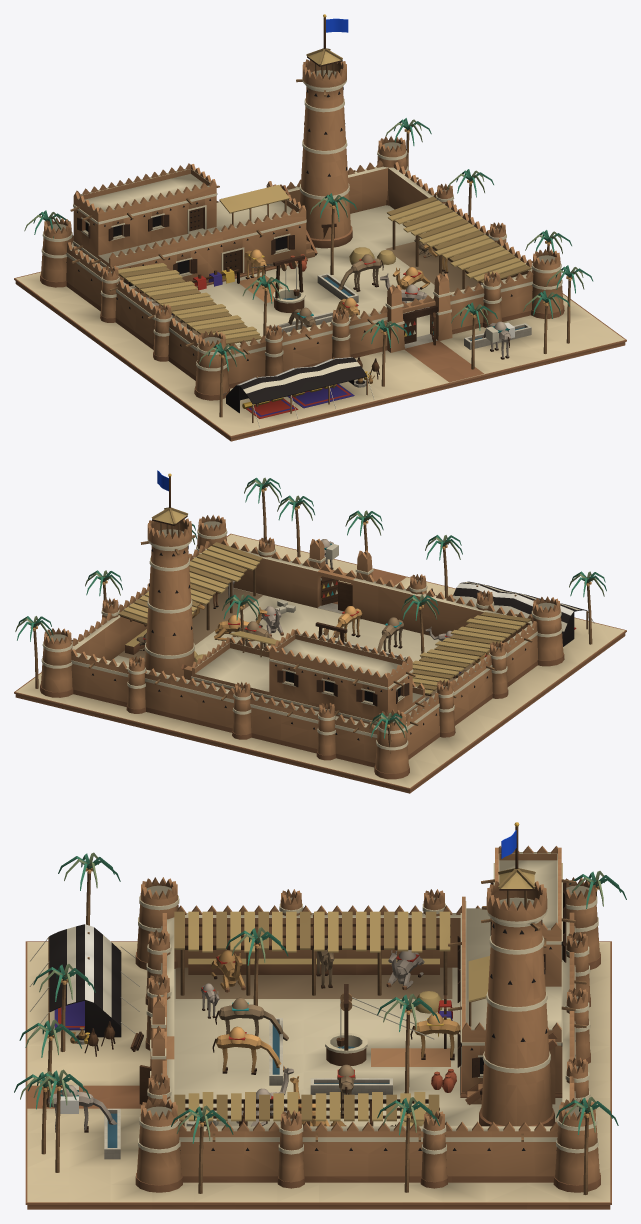
The model's file is lm_deveagili.glb.
3 renders of one model, top to bottom at view 1: azimuth 30°, elevation 25°; view 2: azimuth 150°, elevation 25°; view 3: azimuth 270°, elevation 25°, orthographic. The views are drawn at different scales.
Parts seen in each view (by area): view 1: lm_deveagili; view 2: lm_deveagili; view 3: lm_deveagili.
Part boxes in pixels (x1=…): lm_deveagili: x1=14, y1=14, x2=626, y2=441; lm_deveagili: x1=14, y1=470, x2=626, y2=793; lm_deveagili: x1=14, y1=822, x2=626, y2=1209.
Size of the model in its own units: 2.33 by 1.24 by 2.23.
Materials: 1 (1 with a texture image).
